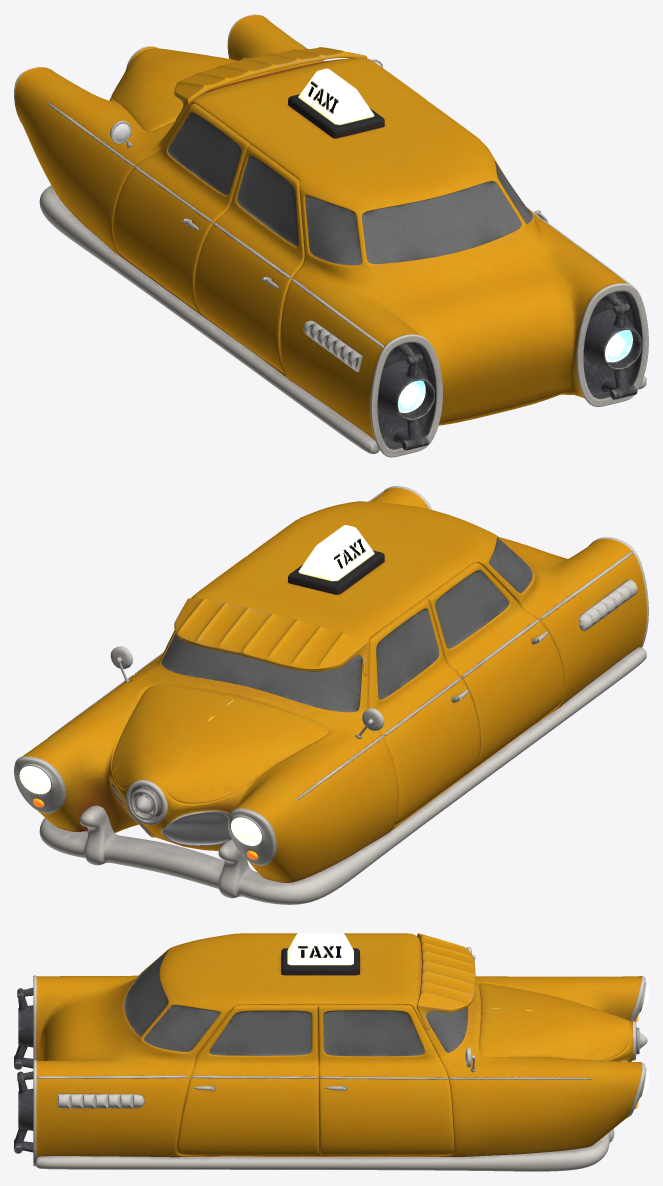
File: cab2021.fbx
3 renders of one model, top to bottom at view 1: azimuth 30°, elevation 25°; view 2: azimuth 150°, elevation 25°; view 3: azimuth 270°, elevation 25°, orthographic. The views are drawn at different scales.
Visible parts, largest first — view 1: Body, WindsheildGaurd; view 2: Body, WindsheildGaurd; view 3: Body, WindsheildGaurd.
Boxes of the visible parts, x1,y1,x2,y2 form: Body: [14, 14, 648, 457]; WindsheildGaurd: [39, 42, 646, 453]; Body: [14, 486, 648, 882]; WindsheildGaurd: [39, 491, 646, 904]; Body: [14, 933, 648, 1166]; WindsheildGaurd: [35, 933, 614, 1171].
Bounding box in the file's own units: 522 × 400 × 1202.
